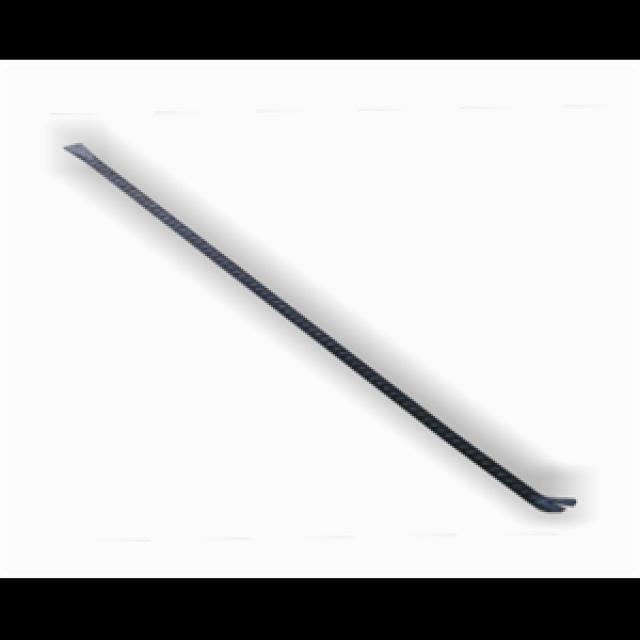Linggis: (56, 126, 591, 526)
